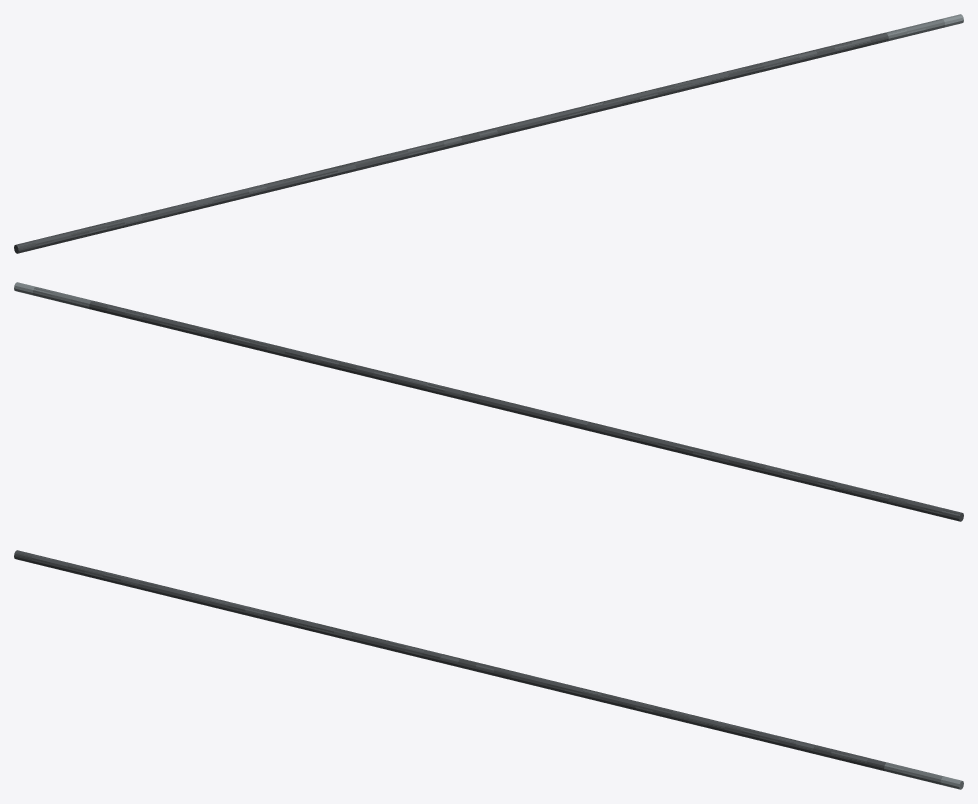
Rendered from welding_rod_steel.glb.
The picture shows the model from 3 angles, top to bottom: view 1: azimuth 30°, elevation 25°; view 2: azimuth 150°, elevation 25°; view 3: azimuth 330°, elevation 25°; orthographic projection.
Parts seen in each view (by area): view 1: block_flux coating, block_bare grip end; view 2: block_flux coating, block_bare grip end; view 3: block_flux coating, block_bare grip end.
Part boxes in pixels (bbox=[...]): block_flux coating: bbox=[16, 32, 888, 253]; block_bare grip end: bbox=[886, 14, 963, 41]; block_flux coating: bbox=[89, 300, 961, 521]; block_bare grip end: bbox=[14, 282, 91, 309]; block_flux coating: bbox=[14, 550, 886, 771]; block_bare grip end: bbox=[884, 762, 963, 789].
Bounding box in the file's own units: 0.35 × 0.00285 × 0.003.
Materials: 1 (1 with a texture image).
